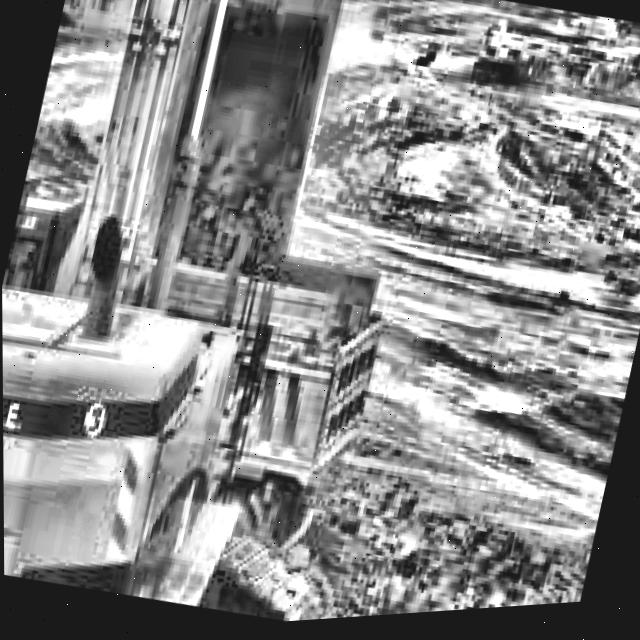dump_truck: (220, 255, 391, 553)
excavator: (0, 0, 477, 640), (467, 13, 528, 97)
